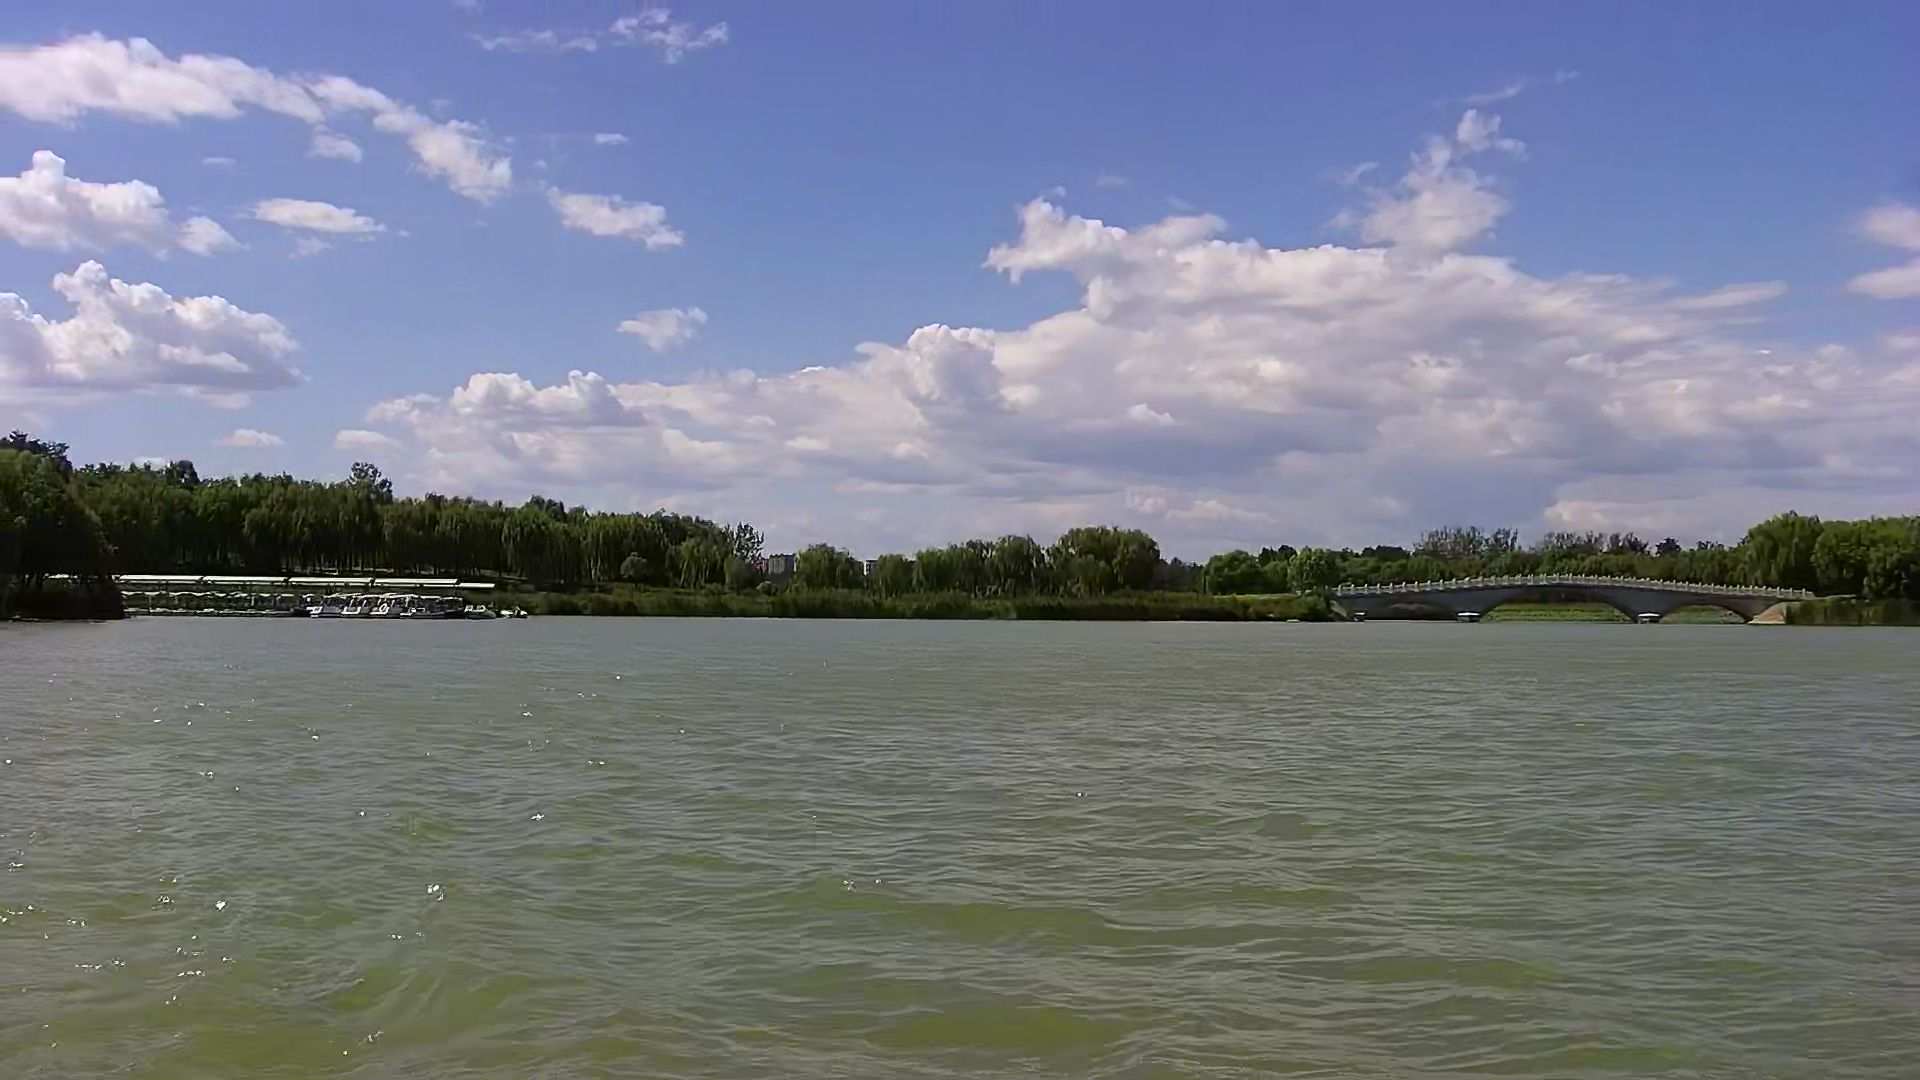bridge: (1333, 574, 1809, 626)
harbor: (119, 568, 514, 617)
